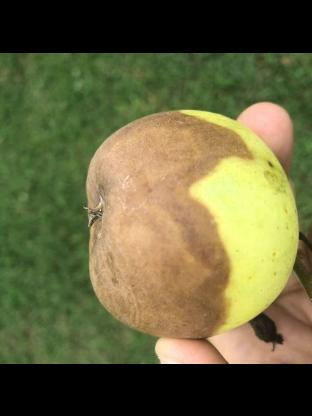defect: (80, 106, 258, 340)
